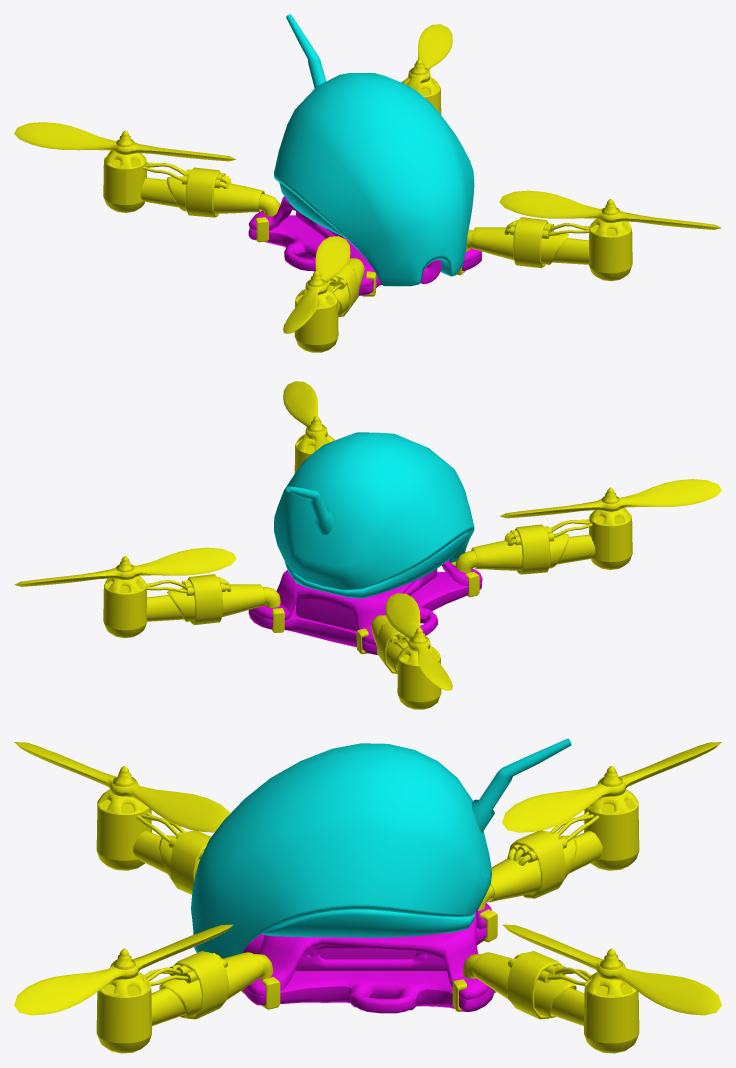
Rendered from Drone_01.fbx.
The picture shows the model from 3 angles, top to bottom: view 1: azimuth 30°, elevation 25°; view 2: azimuth 150°, elevation 25°; view 3: azimuth 270°, elevation 25°; orthographic projection. The views are drawn at different scales.
Parts seen in each view (by area): view 1: Drone1_Shell, Drone1_Arm4, Drone1_Arm1, Drone_Body, Drone1_Arm2, propeller1, propeller4, propeller2, propeller3, Drone1_Aereal, Drone1_Arm3; view 2: Drone1_Shell, Drone_Body, Drone1_Arm2, Drone1_Arm3, Drone1_Arm4, propeller3, propeller2, propeller4, propeller1, Drone1_Aereal, Drone1_Arm1; view 3: Drone1_Shell, Drone_Body, Drone1_Arm1, Drone1_Arm3, Drone1_Arm4, Drone1_Arm2, propeller1, propeller3, propeller4, propeller2, Drone1_Aereal.
Part boxes in pixels (bbox=[...]): Drone1_Shell: bbox=[274, 73, 474, 286]; Drone1_Arm4: bbox=[103, 130, 280, 242]; Drone1_Arm1: bbox=[457, 199, 632, 281]; Drone_Body: bbox=[248, 196, 481, 295]; Drone1_Arm2: bbox=[294, 258, 376, 352]; propeller1: bbox=[499, 190, 721, 229]; propeller4: bbox=[14, 122, 236, 161]; propeller2: bbox=[283, 236, 350, 333]; propeller3: bbox=[406, 24, 452, 93]; Drone1_Aereal: bbox=[286, 14, 326, 88]; Drone1_Arm3: bbox=[401, 59, 441, 114]; Drone1_Shell: bbox=[274, 432, 474, 598]; Drone_Body: bbox=[248, 560, 482, 654]; Drone1_Arm2: bbox=[451, 487, 632, 597]; Drone1_Arm3: bbox=[103, 556, 284, 638]; Drone1_Arm4: bbox=[356, 615, 441, 709]; propeller3: bbox=[14, 547, 236, 586]; propeller2: bbox=[499, 479, 721, 518]; propeller4: bbox=[385, 593, 452, 690]; propeller1: bbox=[283, 381, 329, 450]; Drone1_Aereal: bbox=[286, 486, 333, 534]; Drone1_Arm1: bbox=[294, 416, 334, 473]; Drone1_Shell: bbox=[191, 743, 491, 958]; Drone_Body: bbox=[243, 903, 494, 1013]; Drone1_Arm1: bbox=[96, 948, 280, 1053]; Drone1_Arm3: bbox=[452, 948, 639, 1053]; Drone1_Arm4: bbox=[478, 766, 639, 942]; Drone1_Arm2: bbox=[96, 766, 210, 894]; propeller1: bbox=[14, 924, 233, 1015]; propeller3: bbox=[502, 924, 721, 1015]; propeller4: bbox=[502, 742, 721, 832]; propeller2: bbox=[14, 742, 230, 832]; Drone1_Aereal: bbox=[472, 738, 571, 832].
Size of the model in its own units: 46.82 by 19.34 by 51.9.
